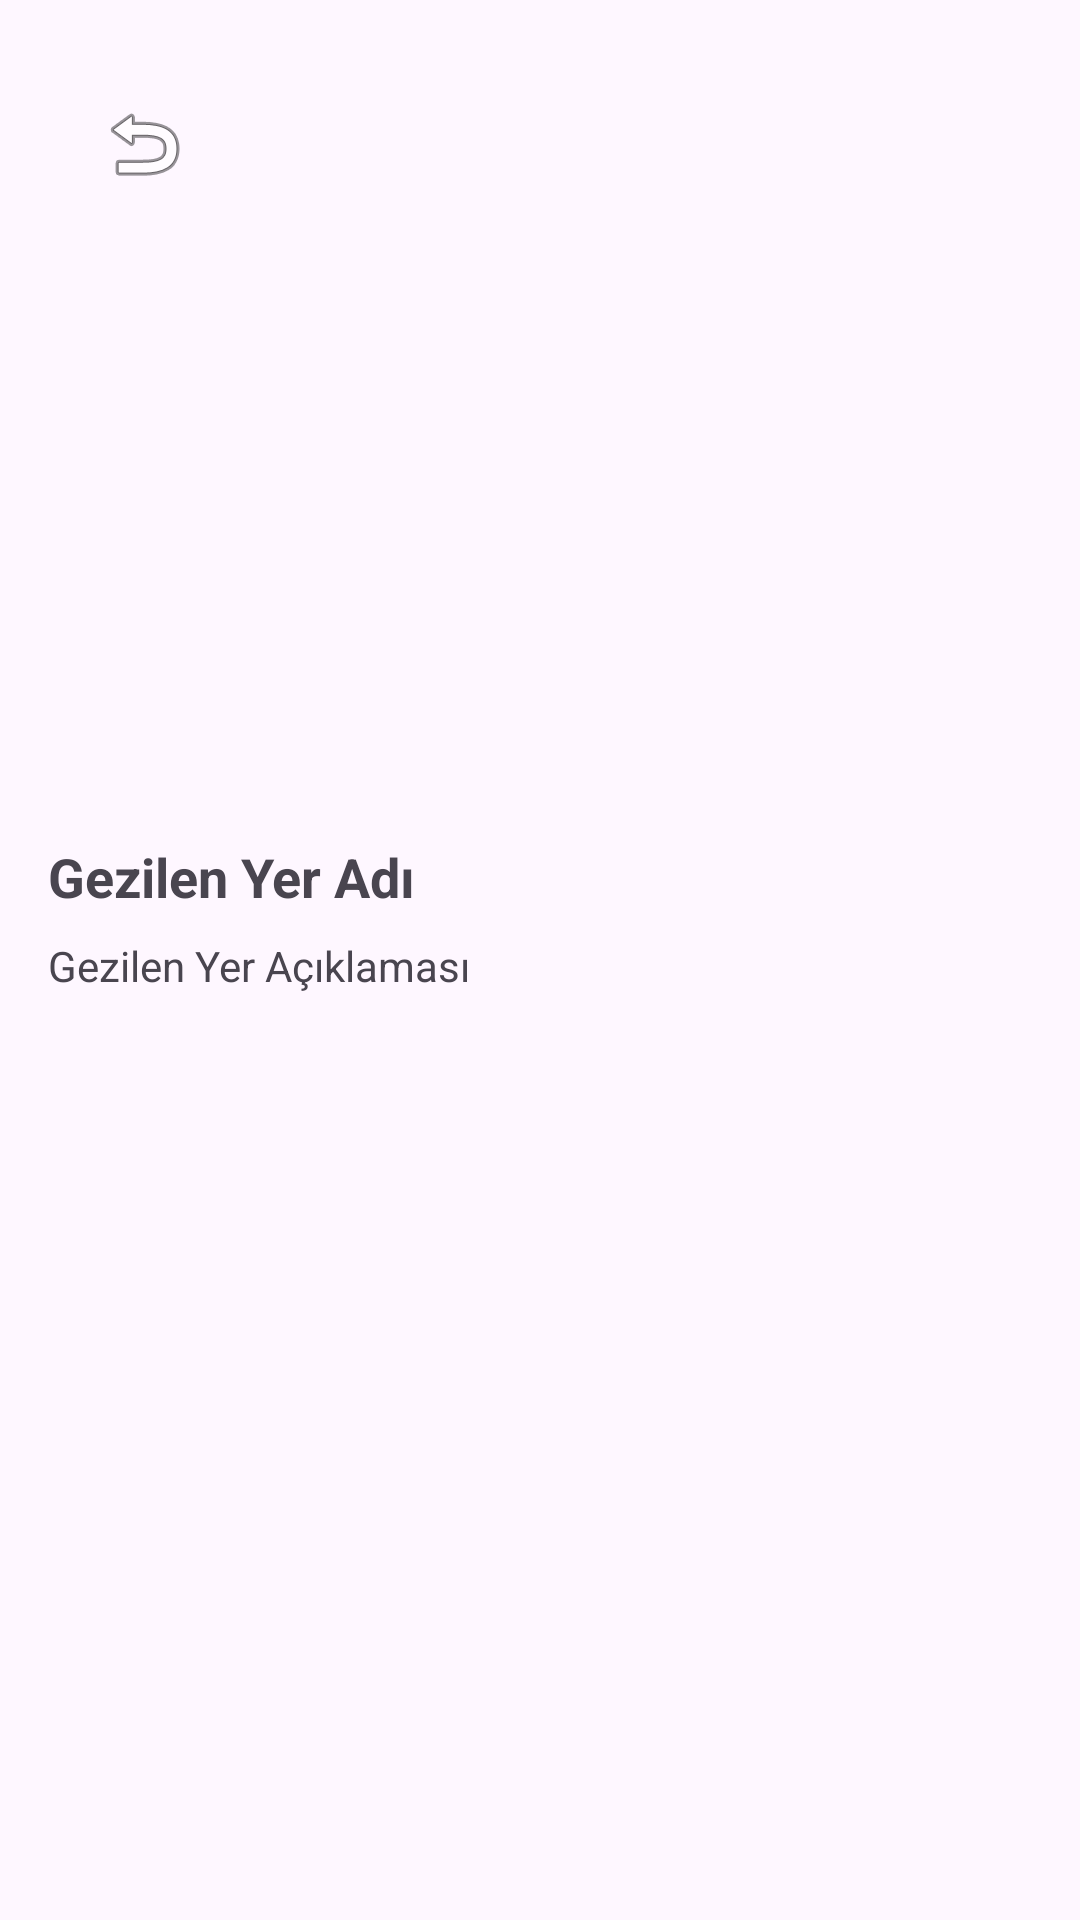

Icons on this 1080w x 1920h Android screen, each with its box as (x1, y1, x2, y2):
Geri Butonu: (111, 113, 180, 176)
